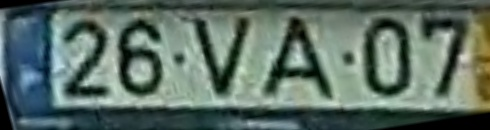0: (360, 13, 416, 100)
2: (56, 16, 115, 103)
6: (114, 15, 167, 102)
7: (419, 15, 472, 103)
A: (256, 14, 339, 103)
V: (187, 16, 260, 100)
